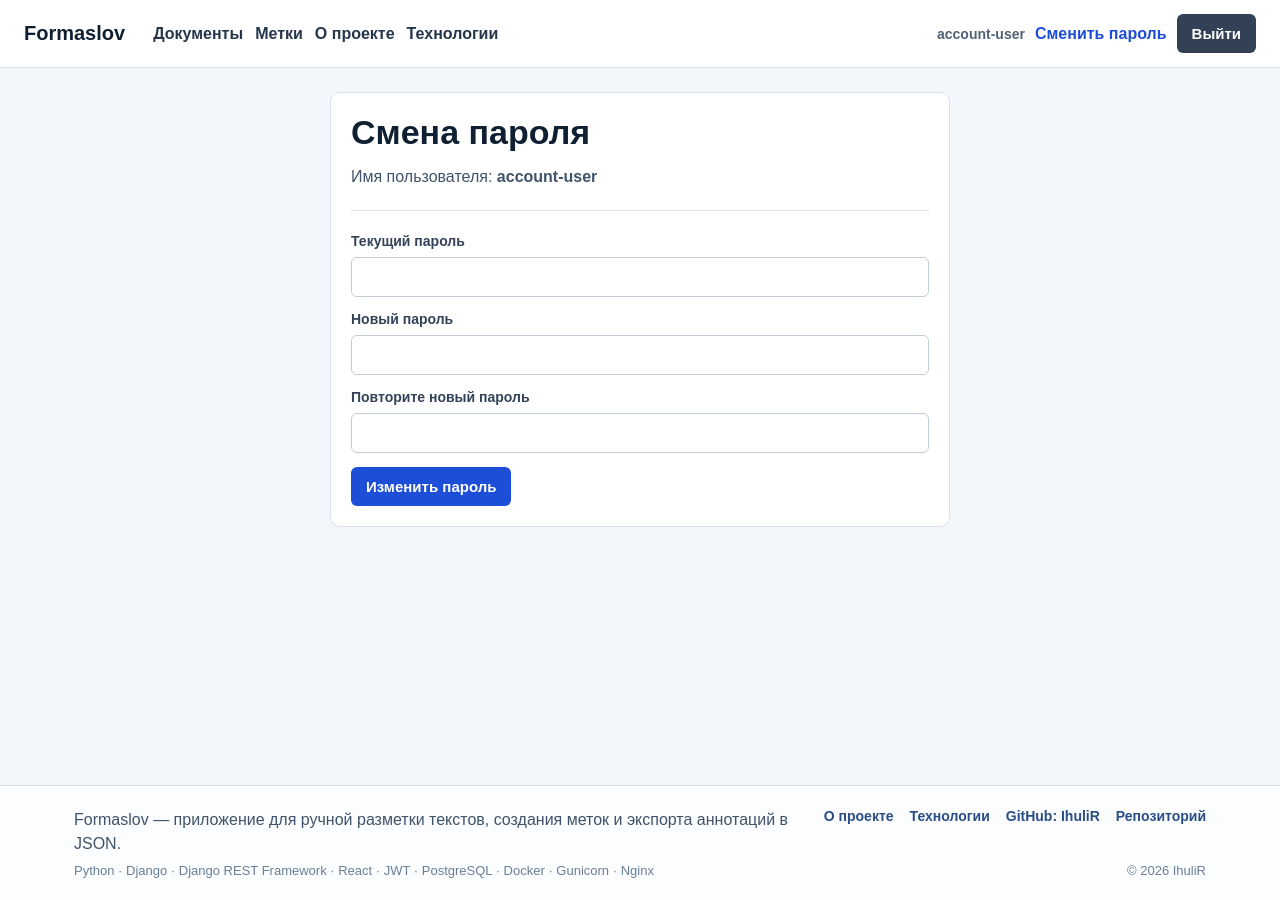
it: shows the username and rejects mismatched passwords before the request
Expected: the text "account-user" is shown 2 times, [937,26,1025,42]; [497,168,597,185]
Expected: the heading "Смена пароля" is shown, [351,113,590,151]
Type "current-password" into the password field labelled "Текущий пароль".
click(640, 277); type("current-password")  # box [351,257,929,297]
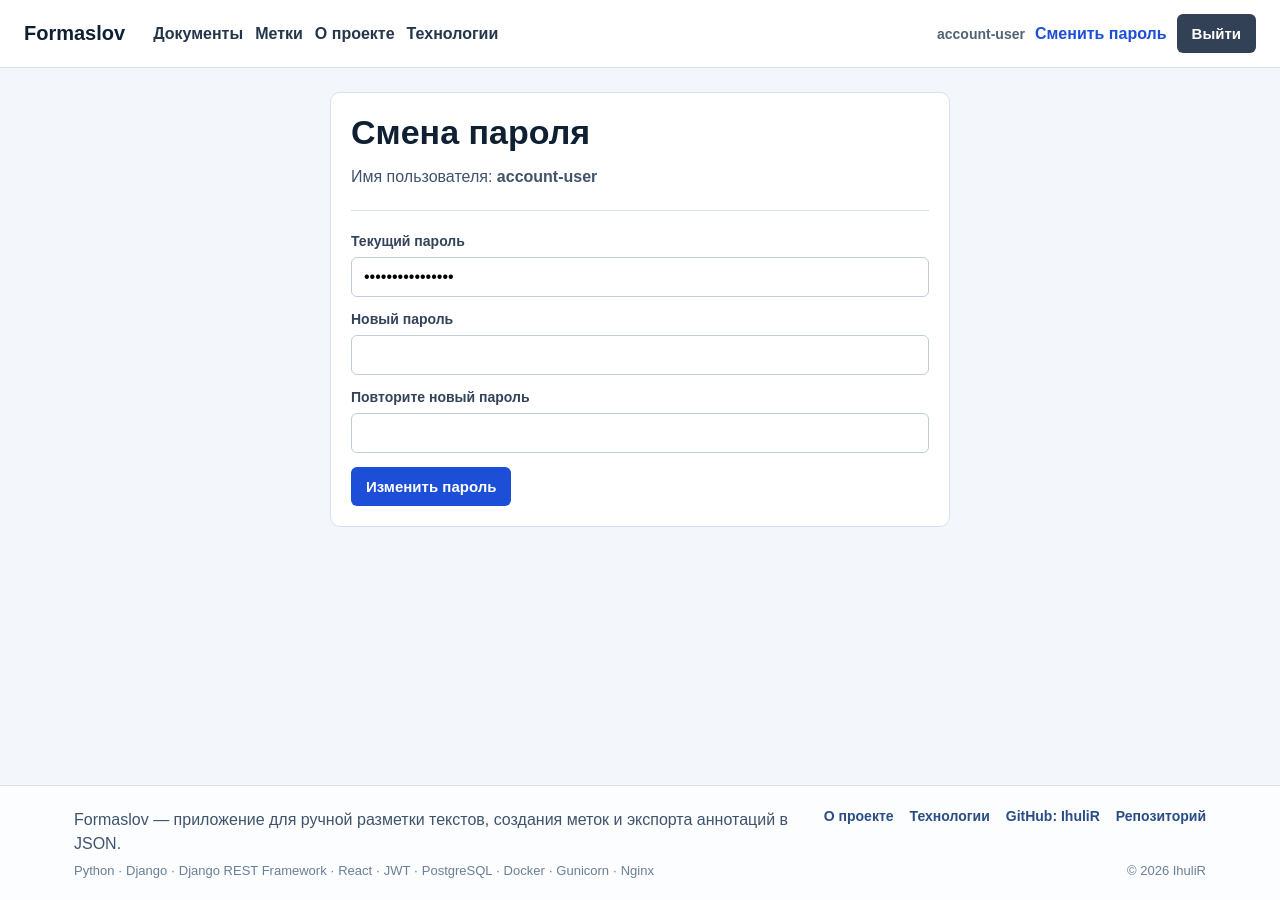
Type "new-password-one" into the password field labelled "Новый пароль".
click(640, 355); type("new-password-one")  # box [351,335,929,375]
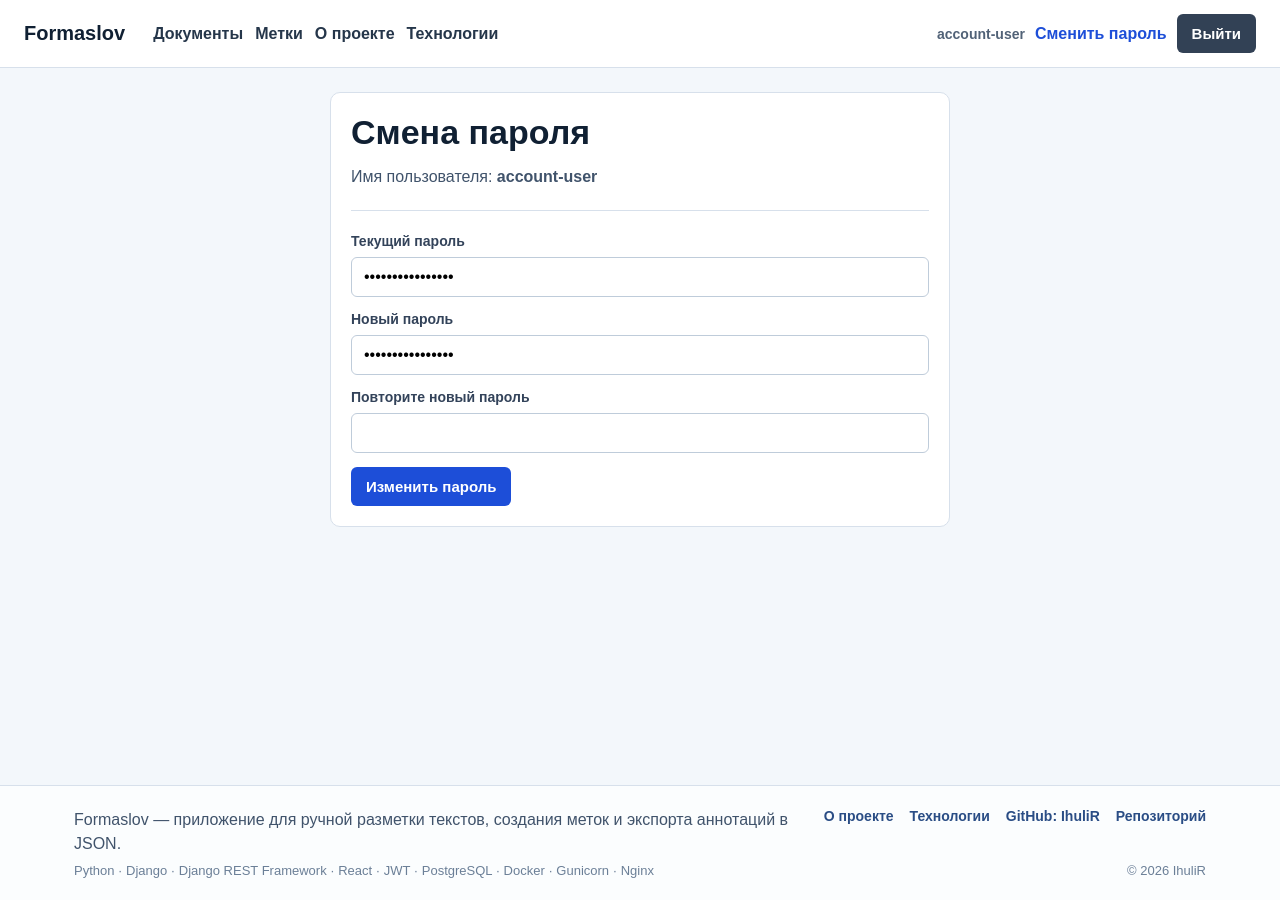
Type "new-password-two" into the password field labelled "Повторите новый пароль".
click(640, 433); type("new-password-two")  # box [351,413,929,453]
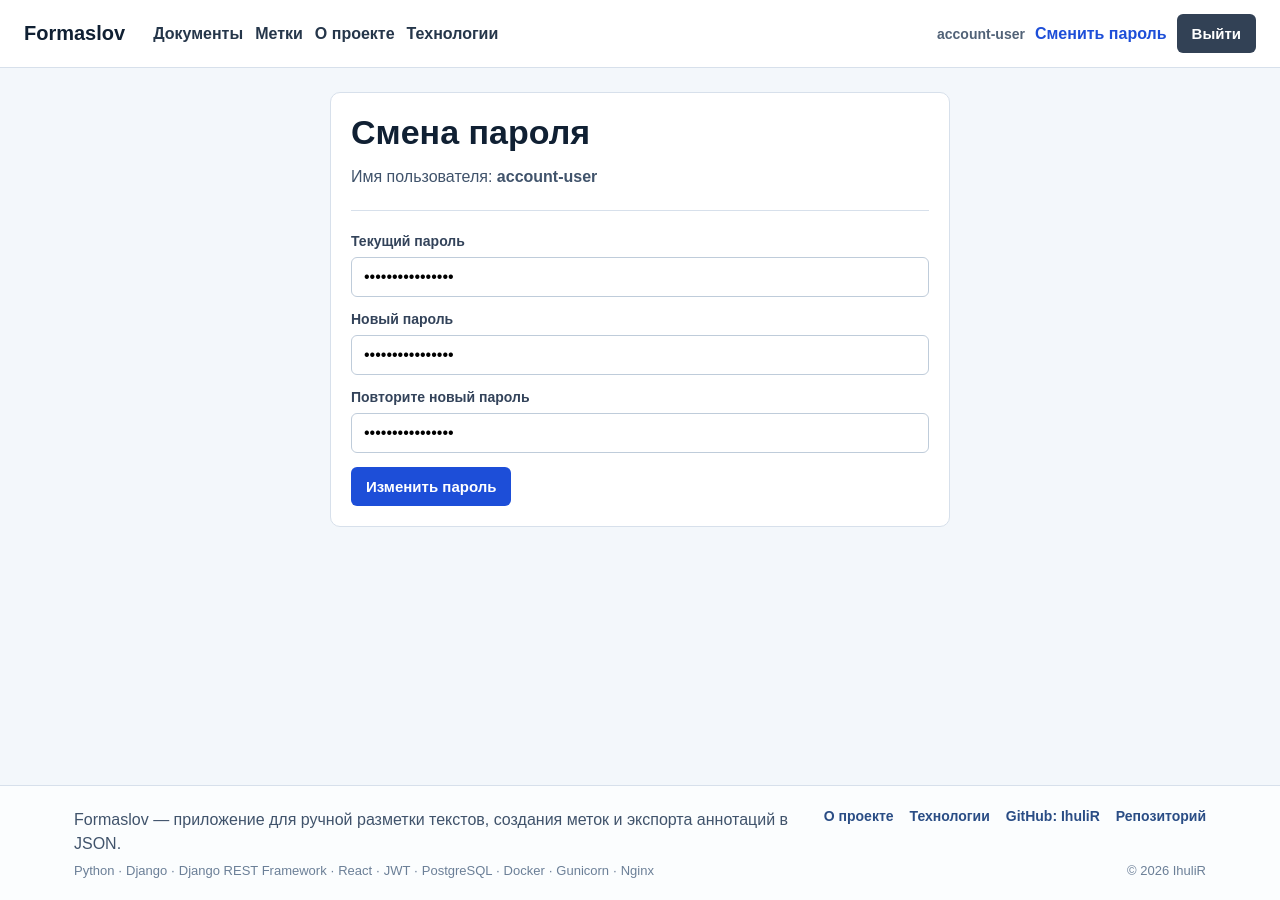
Click the button "Изменить пароль".
click(431, 486)  # box [351,467,511,506]
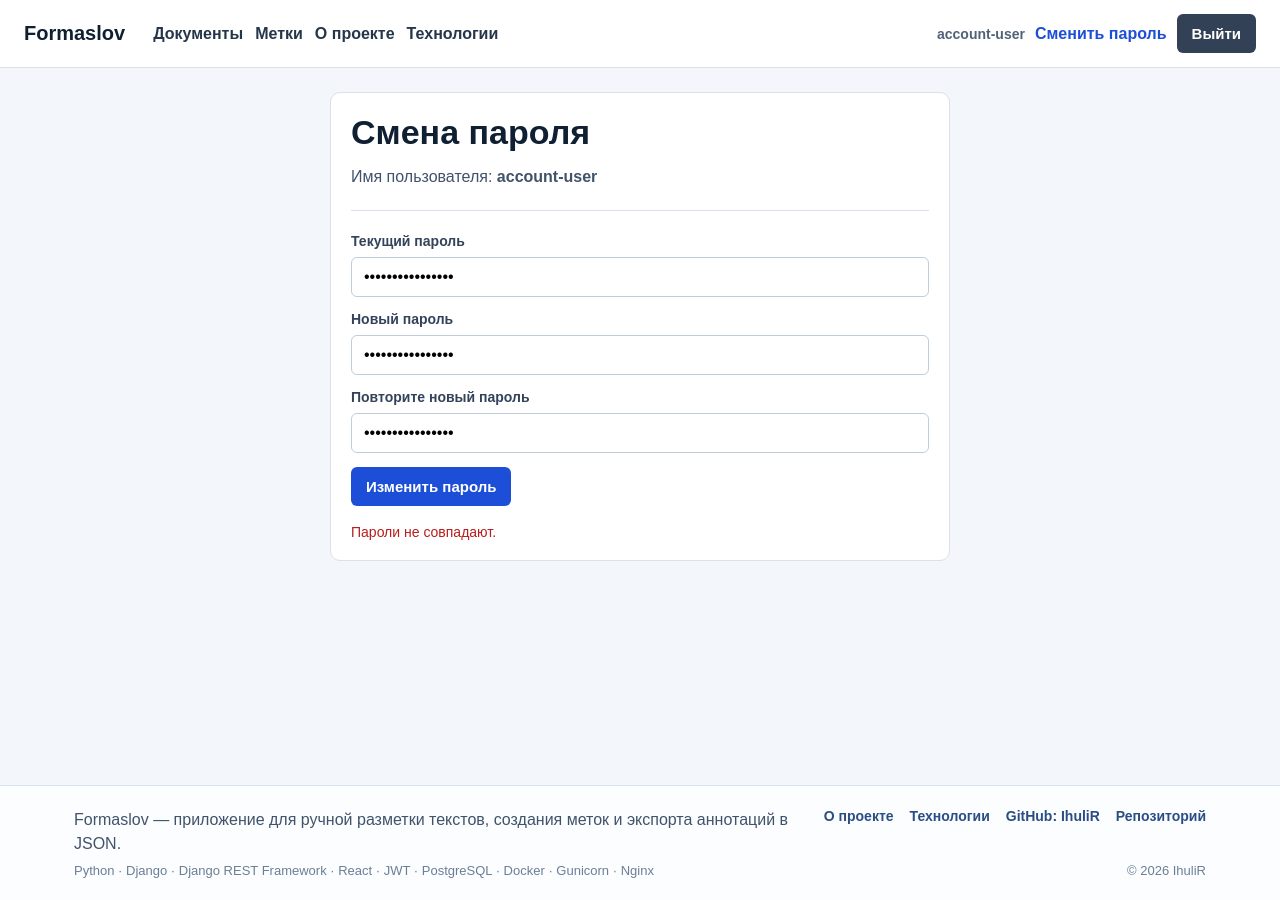
Expected: the text "Пароли не совпадают." is shown, [351,524,496,540]
